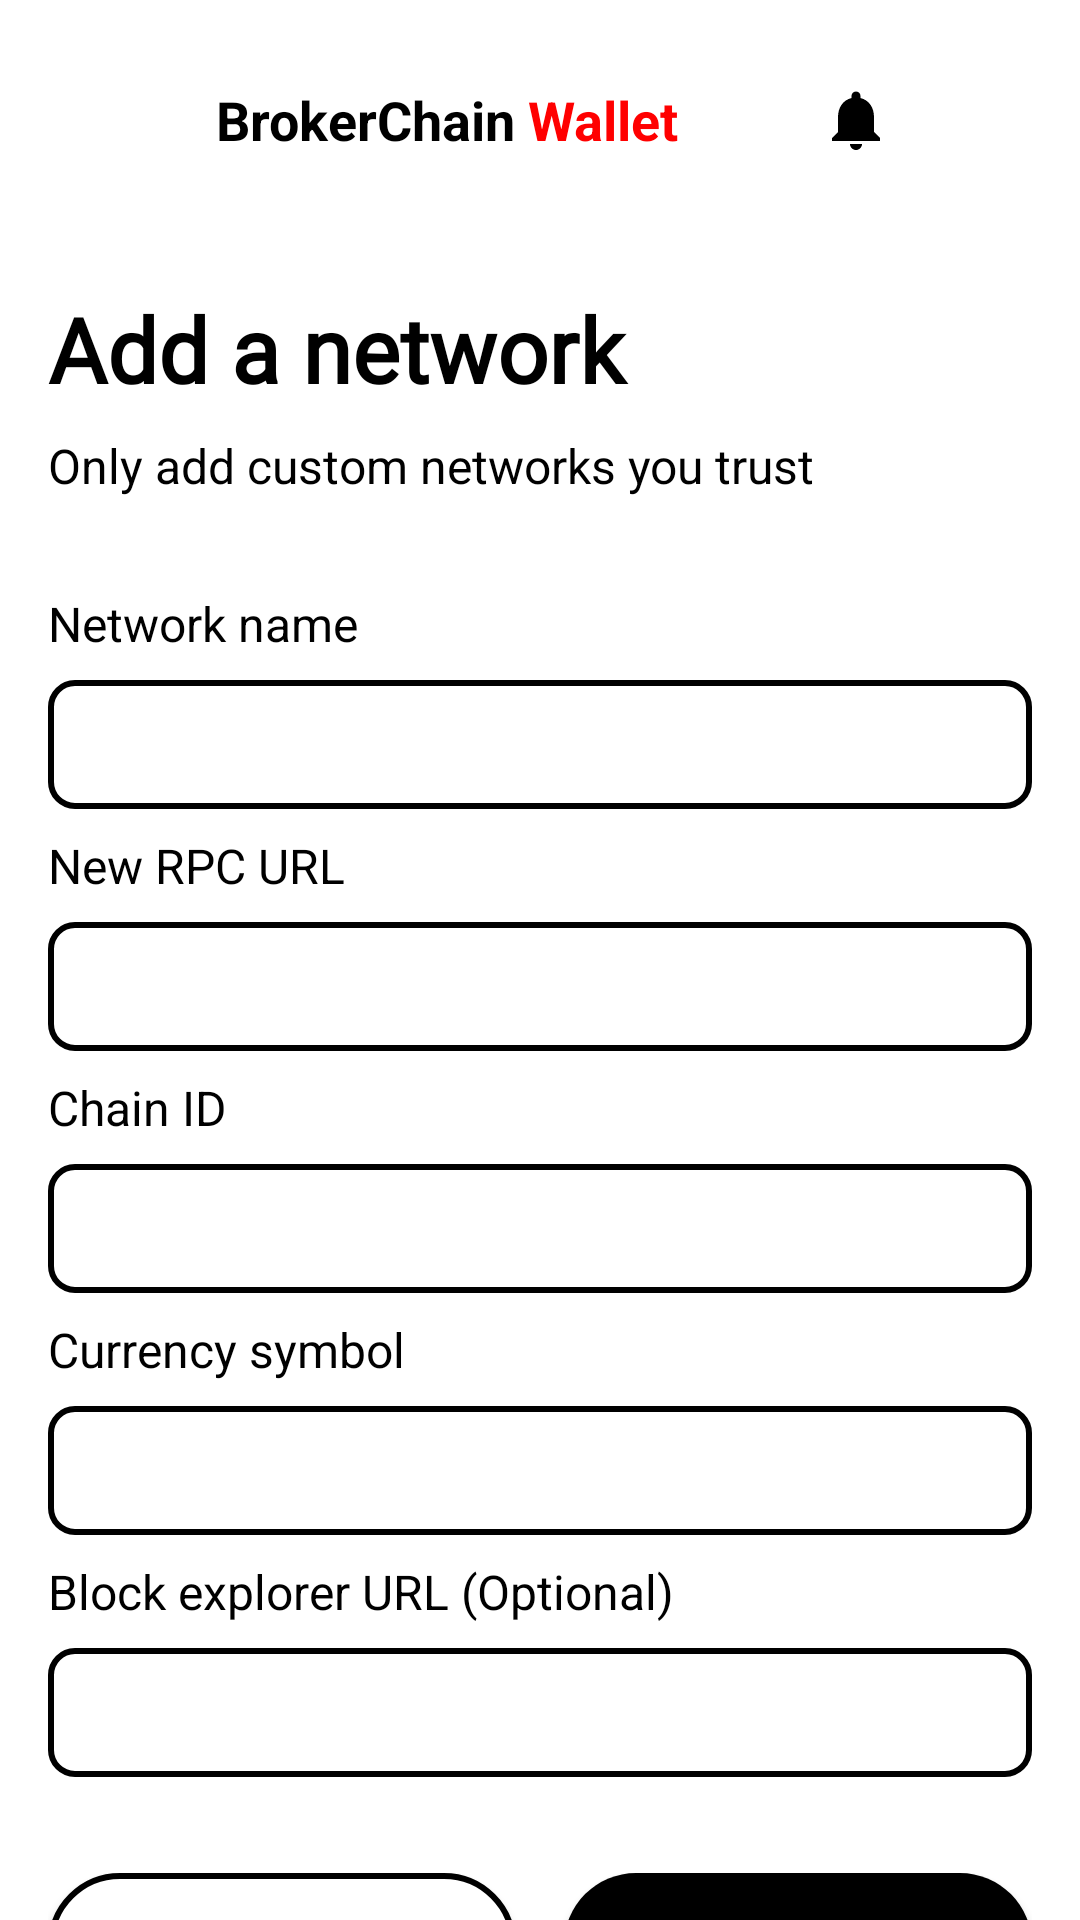

Screen size 1080px×1920px. Icon name, then its center in pixels as (x,y):
Notifications: (856,120)
